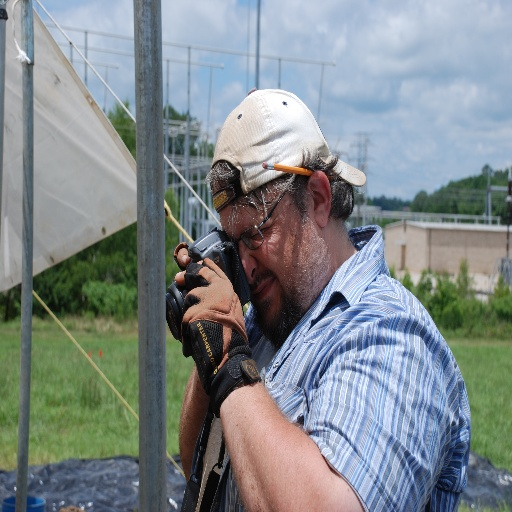hand: (173, 251, 250, 394), (173, 240, 193, 268)
